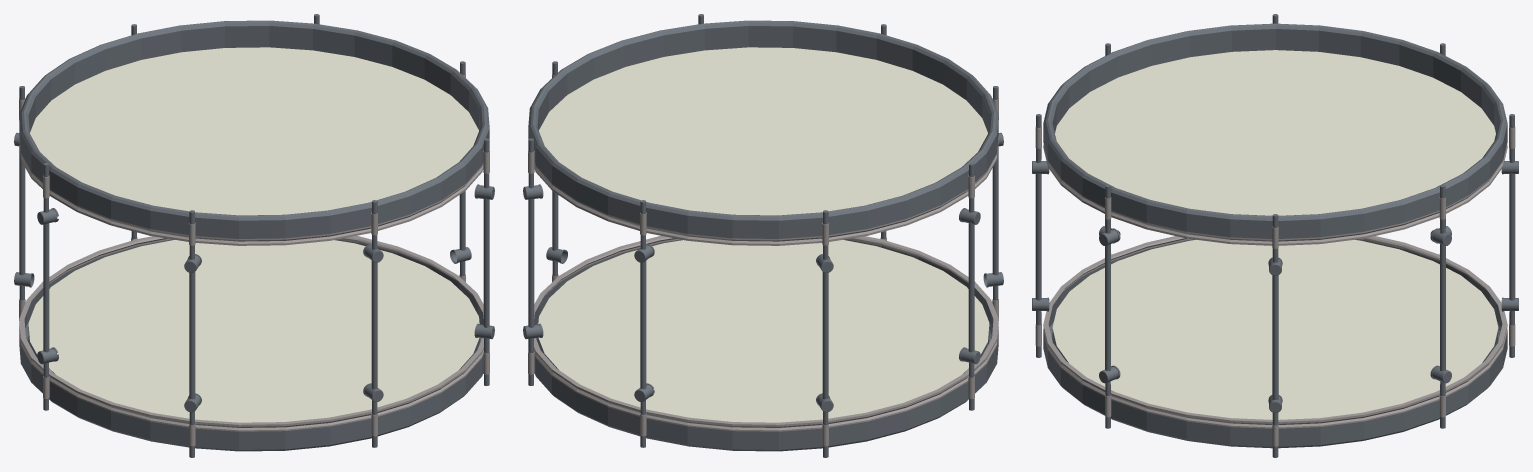
Rendered from Trommel.fbx.
3 renders of one model, left to right at view 1: azimuth 30°, elevation 25°; view 2: azimuth 150°, elevation 25°; view 3: azimuth 270°, elevation 25°, orthographic.
Parts seen in each view (by area): view 1: Trommel; view 2: Trommel; view 3: Trommel.
Boxes of the visible parts, box(x1,y1,x2,y2) form: Trommel: box(14, 14, 494, 457); Trommel: box(523, 14, 1003, 457); Trommel: box(1032, 14, 1518, 457).
Bounding box in the file's own units: 57.94 × 31.72 × 57.94.
